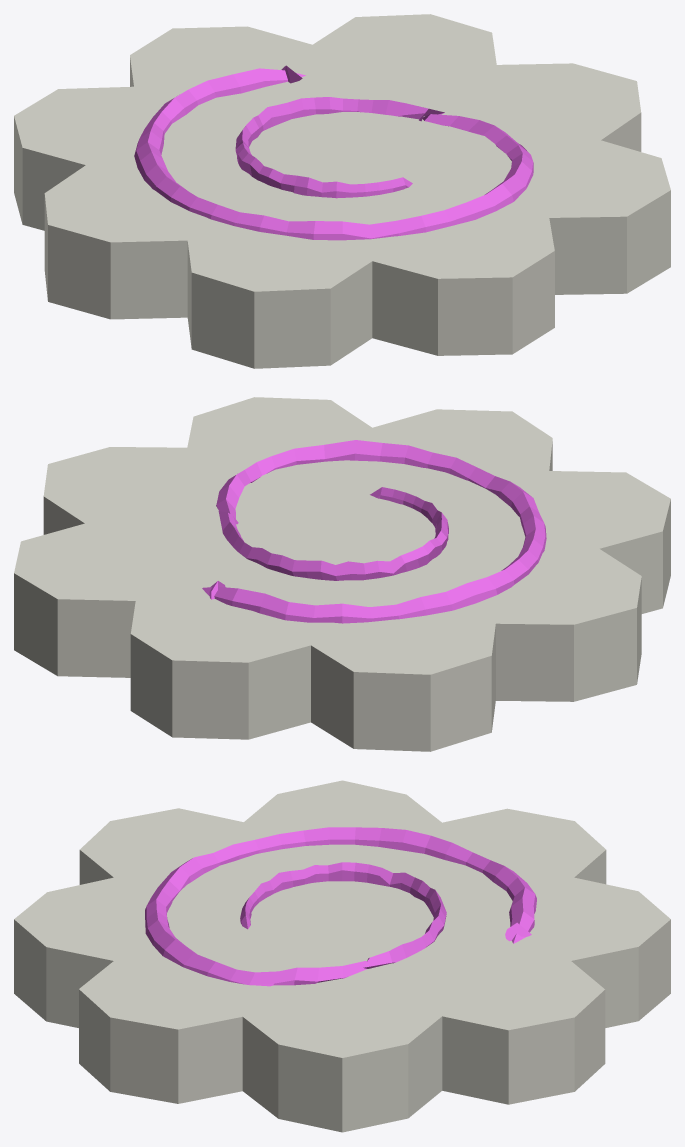
Rendered from narutomaki 1.fbx.
The picture shows the model from 3 angles, top to bottom: view 1: azimuth 30°, elevation 25°; view 2: azimuth 150°, elevation 25°; view 3: azimuth 270°, elevation 25°; orthographic projection. The views are drawn at different scales.
Visible parts, largest first — view 1: Cylinder, Torus.001, Torus; view 2: Cylinder, Torus.001, Torus; view 3: Cylinder, Torus.001, Torus.
Part boxes in pixels (x1=…): Cylinder: x1=14, y1=14, x2=670, y2=368; Torus.001: x1=134, y1=65, x2=533, y2=240; Torus: x1=235, y1=97, x2=444, y2=198; Cylinder: x1=14, y1=397, x2=670, y2=751; Torus.001: x1=202, y1=440, x2=546, y2=623; Torus: x1=218, y1=487, x2=448, y2=580; Cylinder: x1=14, y1=780, x2=670, y2=1132; Torus.001: x1=145, y1=827, x2=536, y2=986; Torus: x1=240, y1=862, x2=446, y2=968.
Size of the model in its own units: 200 by 32.45 by 200.
